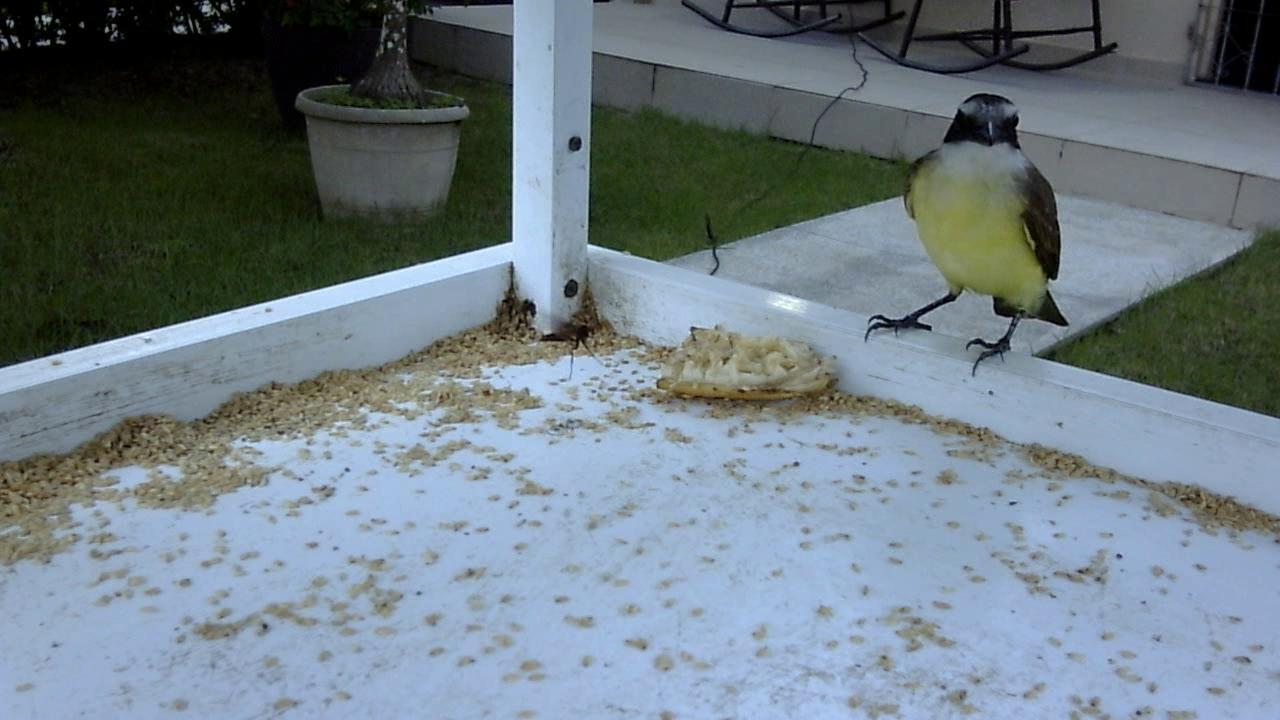bem_te_vi: (854, 83, 1078, 398)
